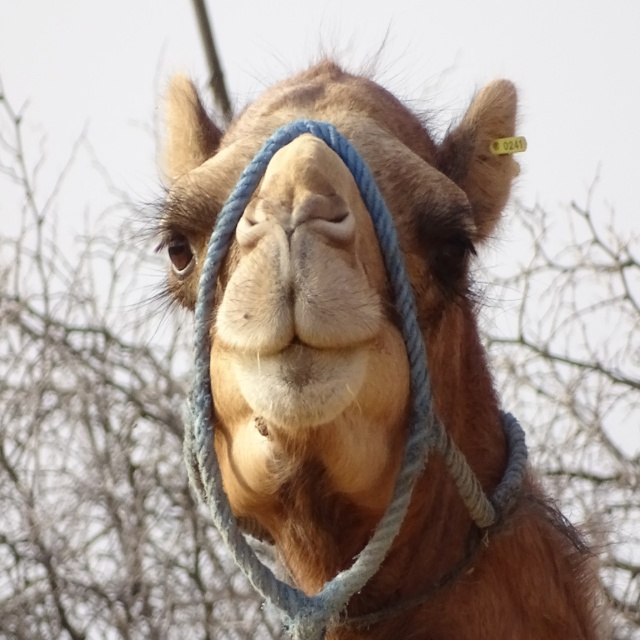Camel: (97, 11, 637, 637)
